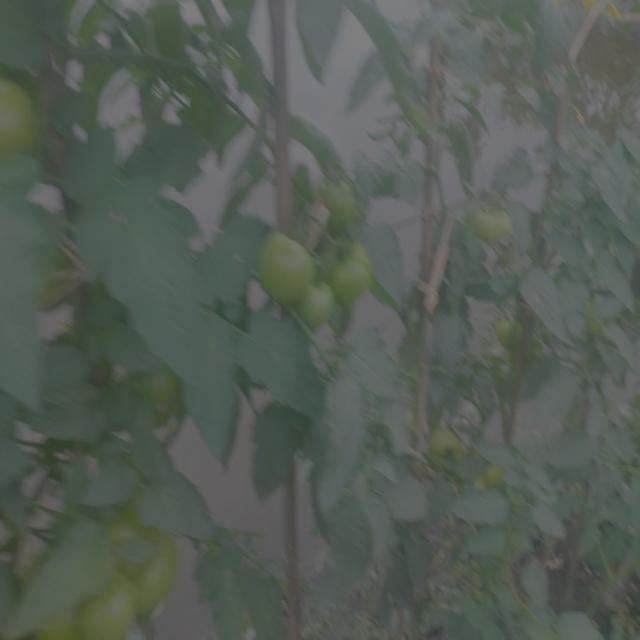tomato: (110, 520, 185, 594), (256, 222, 315, 305), (1, 73, 45, 160), (79, 579, 139, 640), (328, 237, 383, 302), (317, 174, 367, 228), (470, 197, 524, 246), (146, 364, 186, 423), (304, 275, 345, 332), (427, 426, 468, 469), (37, 602, 77, 640), (493, 307, 531, 344), (482, 462, 514, 493)
